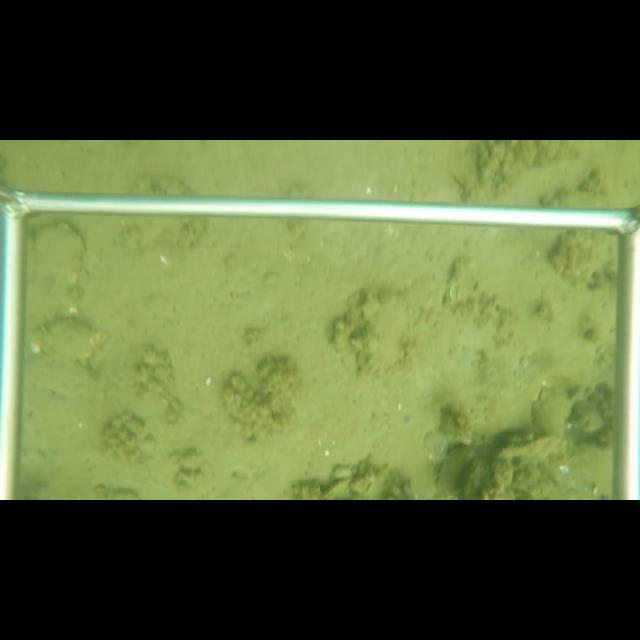Oyster-Closed: (27, 221, 83, 334), (360, 293, 410, 379), (547, 229, 614, 290), (39, 316, 97, 368)
